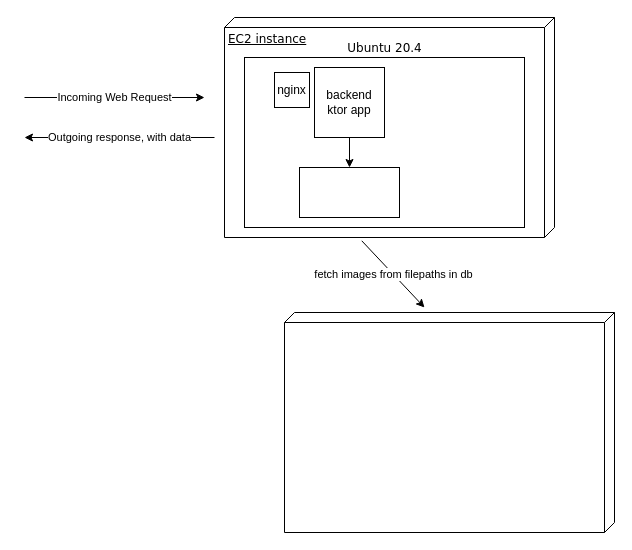
Some shapes in this 632 by 550 pixel diagram are drawn without their labels. Each missing label, with the centre of its shape:
"AWS S3 Bucket" belongs at (x=449, y=422).
"database" belongs at (x=349, y=192).
